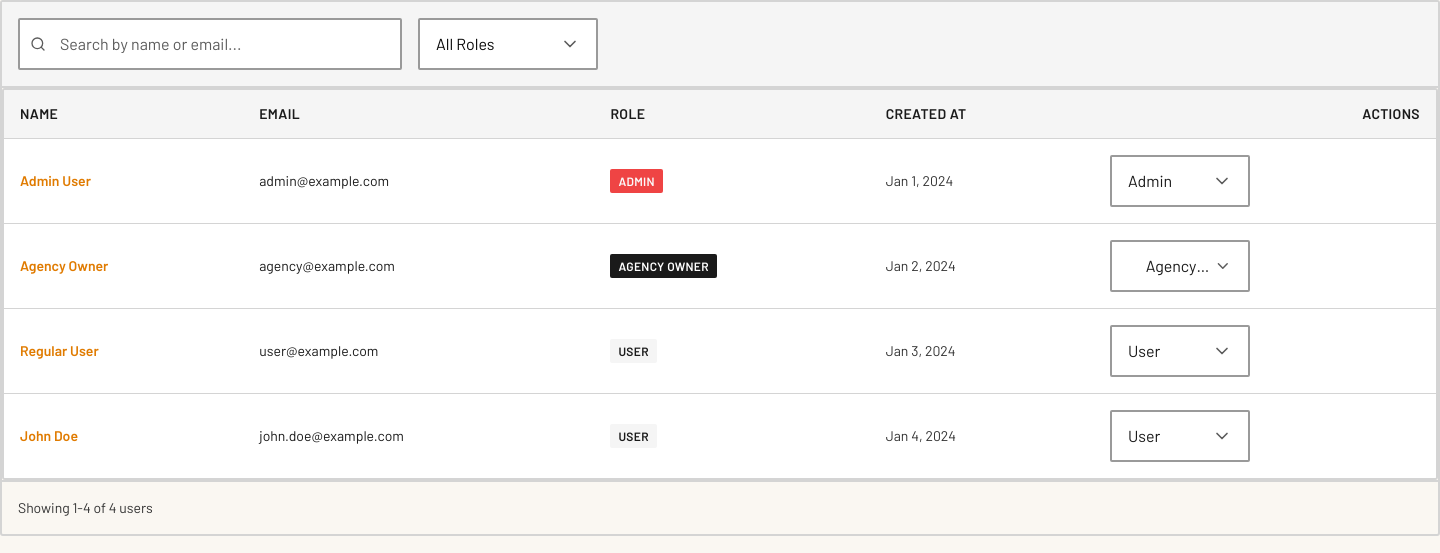
UsersTable › filters users by search query (email)
This screenshot has width=1440, height=553.
Step 1. Type "agency" into the field with placeholder "Search by name or email..." → (210, 44), box [18,18,402,70]
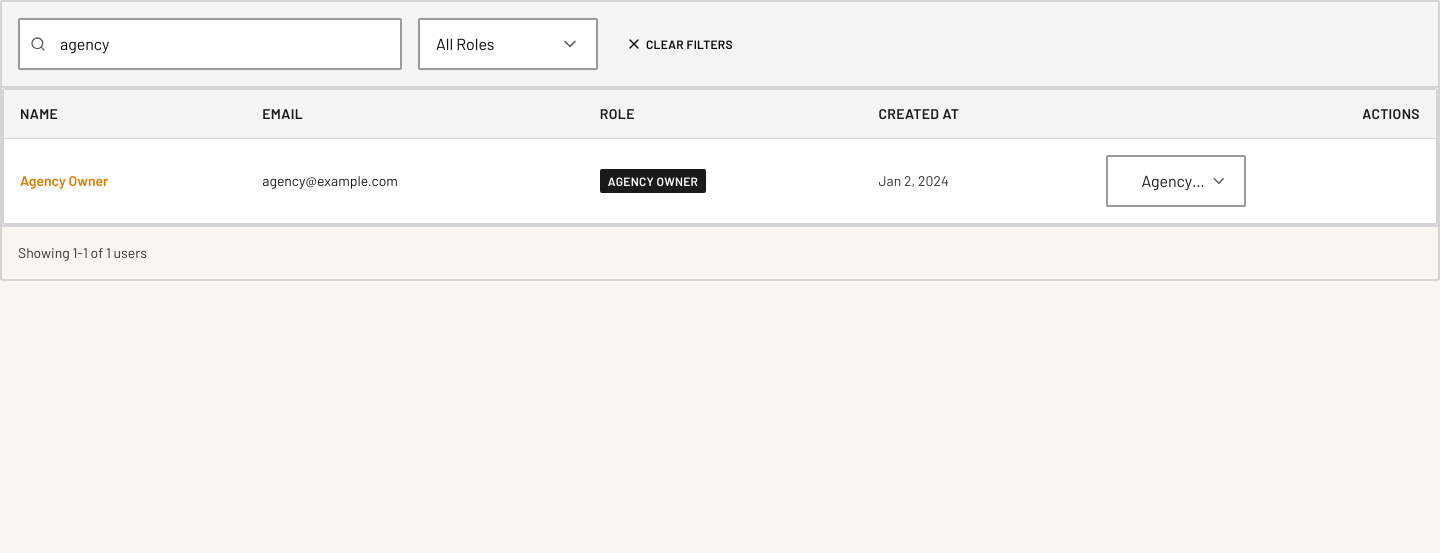
Expected: the number of links "Agency Owner" is 3, [20,172,108,188]; [600,168,706,192]; [1142,170,1192,214]
Expected: the link "Admin User" is gone
Expected: the link "Regular User" is gone
